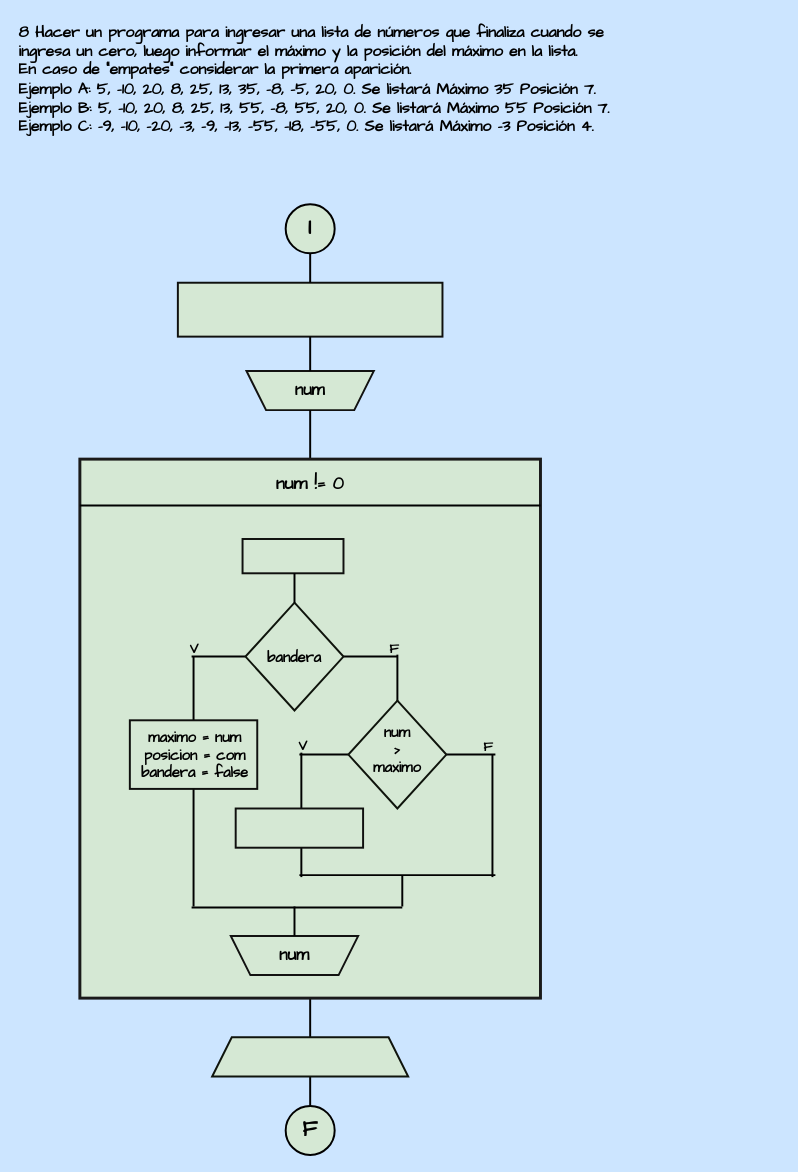
This 798x1172 diagram has some shape labels left out. The shapes that lost their labels are listed below. From the top down, each one's centre as x and y in pixels, then its label:
the point at 309,309: int num, maximo, posicion, con = 0 bool bandera = true
the point at 292,556: con++
the point at 299,827: maximo = num posicion = com
the point at 310,1056: maximo, posicion
